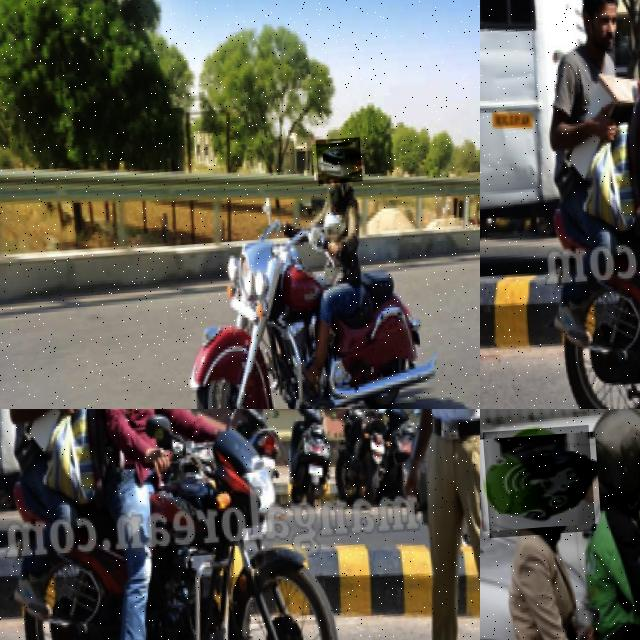helmet: (482, 424, 596, 538), (582, 409, 640, 523), (315, 138, 362, 185)
